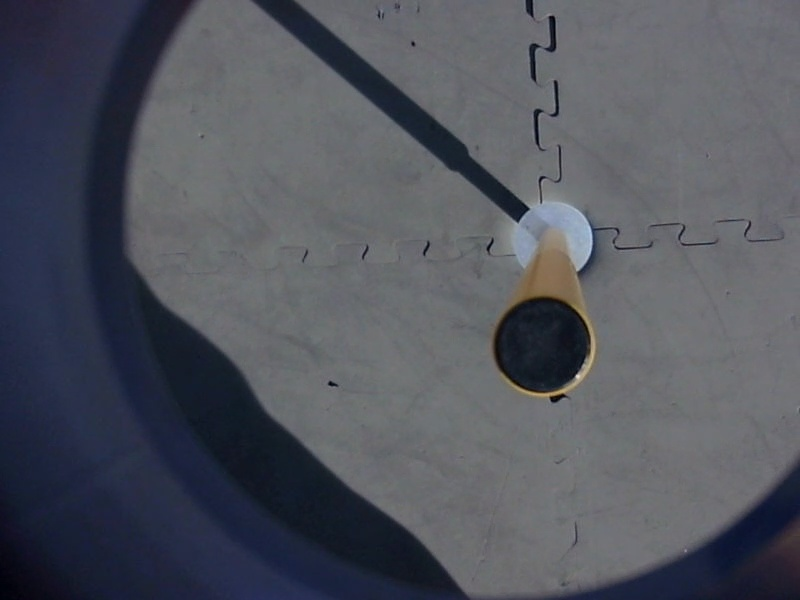tip: (484, 288, 603, 407)
